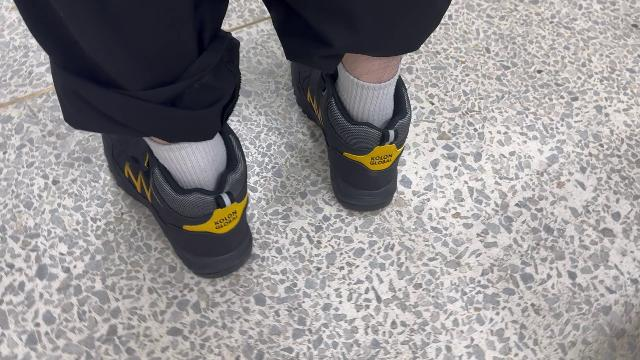shoe_worn: (100, 125, 262, 278), (291, 58, 420, 214)
